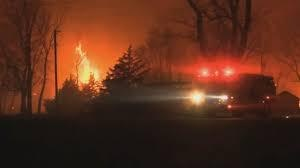fire: (72, 43, 109, 92)
